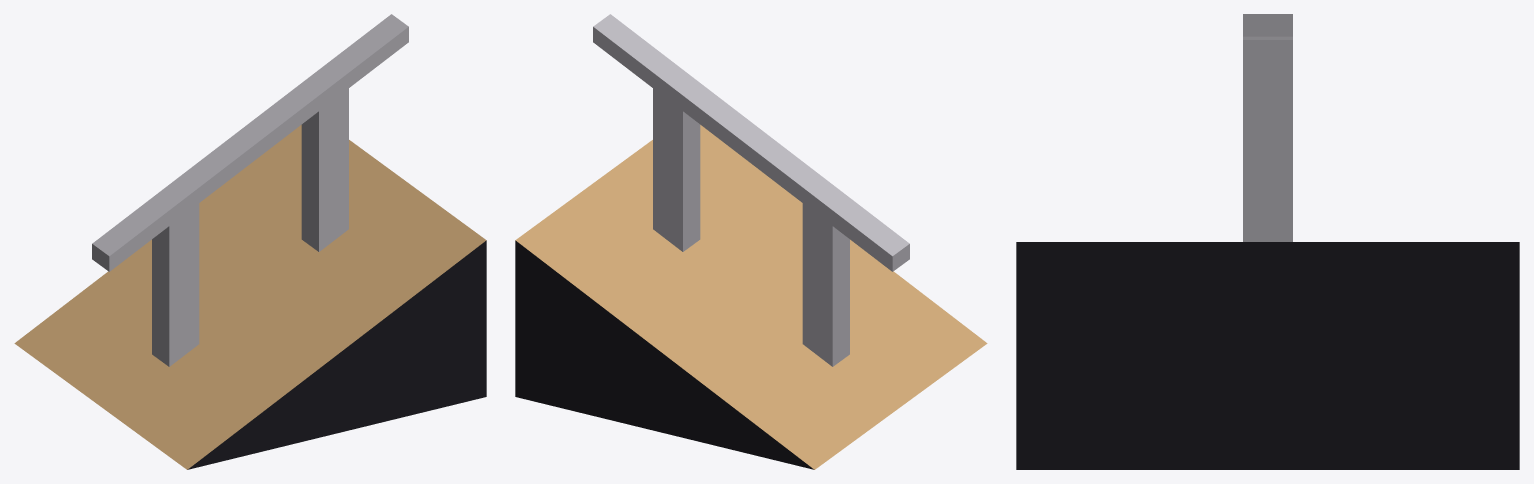
The model's file is Rail_Ramp_Tall.fbx.
3 renders of one model, left to right at view 1: azimuth 30°, elevation 25°; view 2: azimuth 150°, elevation 25°; view 3: azimuth 270°, elevation 25°, orthographic. The views are drawn at different scales.
Visible parts, largest first — view 1: Rail_Ramp_Tall; view 2: Rail_Ramp_Tall; view 3: Rail_Ramp_Tall.
Part boxes in pixels (<box>): Rail_Ramp_Tall: <box>14,14,486,469</box>; Rail_Ramp_Tall: <box>515,14,987,469</box>; Rail_Ramp_Tall: <box>1016,14,1519,469</box>.
Bounding box in the file's own units: 10 × 10 × 10.
